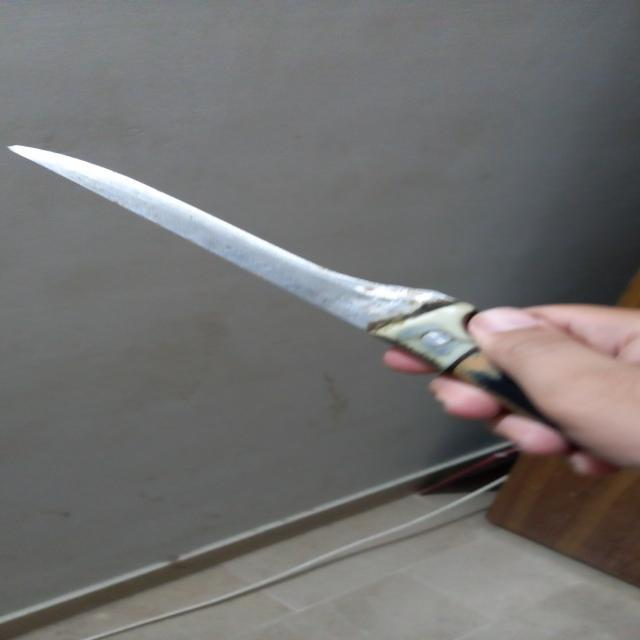knife: (3, 123, 564, 445)
